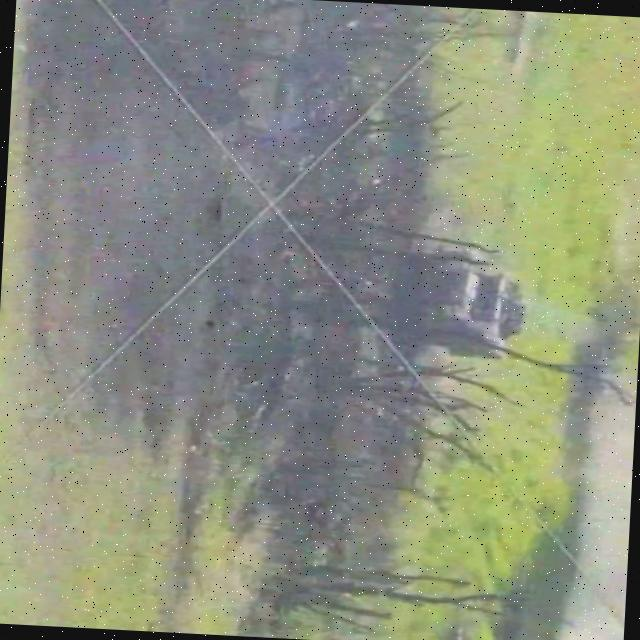Vehicle: (410, 252, 529, 364)
